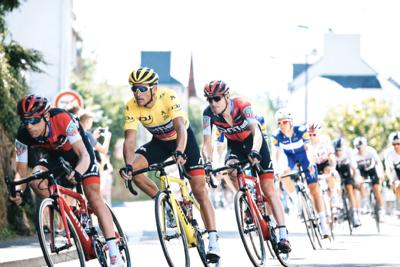With Helmet: (124, 61, 164, 107), (14, 91, 53, 138), (202, 76, 232, 120), (273, 106, 296, 134), (328, 134, 350, 159)
